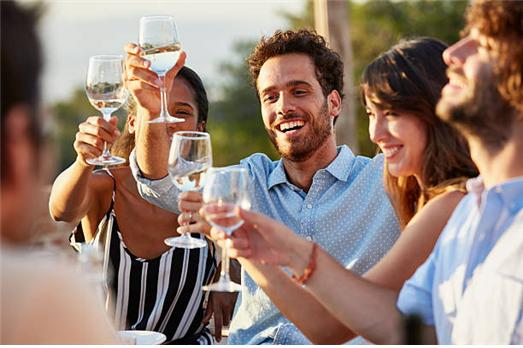alcohol: (202, 166, 255, 290), (167, 130, 212, 248), (138, 14, 186, 123), (85, 53, 129, 166)
